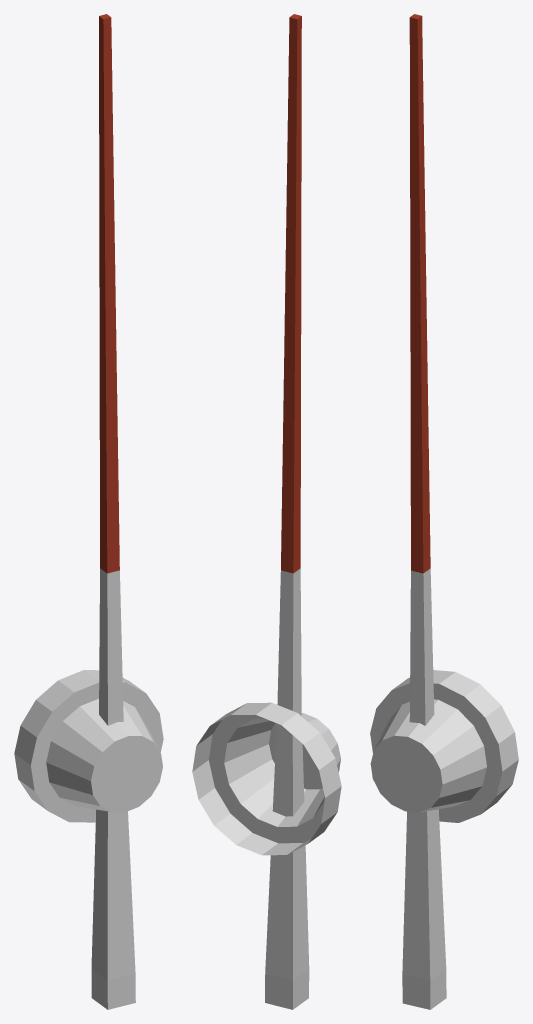
File: watch3.gltf
The picture shows the model from 3 angles, left to right: view 1: azimuth 30°, elevation 25°; view 2: azimuth 150°, elevation 25°; view 3: azimuth 330°, elevation 25°; orthographic projection.
Visible parts, largest first — view 1: Circle.003; view 2: Circle.003; view 3: Circle.003.
Boxes of the visible parts, box(x1,y1,x2,y2) form: Circle.003: box(14, 14, 163, 1009); Circle.003: box(192, 14, 341, 1009); Circle.003: box(370, 14, 518, 1009).
Bounding box in the file's own units: 0.00343 × 0.0243 × 0.00207.
